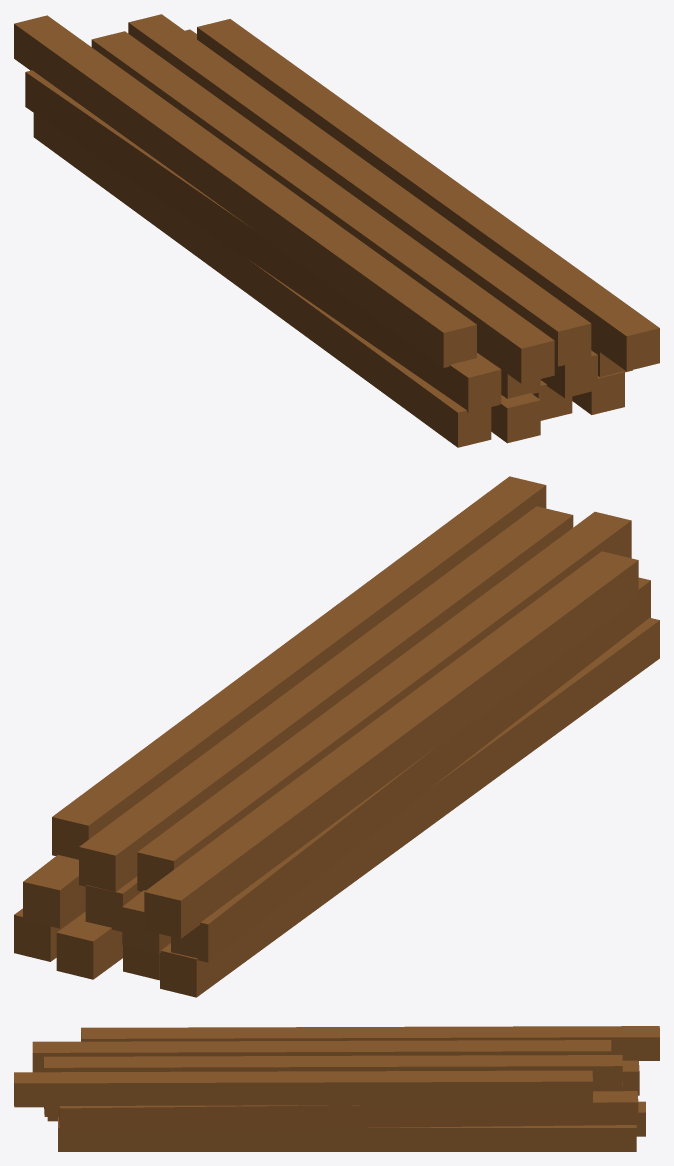
3 views of the same model, one above another, from view 1: azimuth 30°, elevation 25°; view 2: azimuth 150°, elevation 25°; view 3: azimuth 270°, elevation 25° (orthographic). The views are drawn at different scales.
Visible parts, largest first — view 1: A-18; view 2: A-18; view 3: A-18.
Part boxes in pixels (x1,y1,x2,y2): A-18: (14,14,659,447); A-18: (14,476,659,997); A-18: (14,1026,659,1151).
Bounding box in the file's own units: 261 × 136 × 1151.
